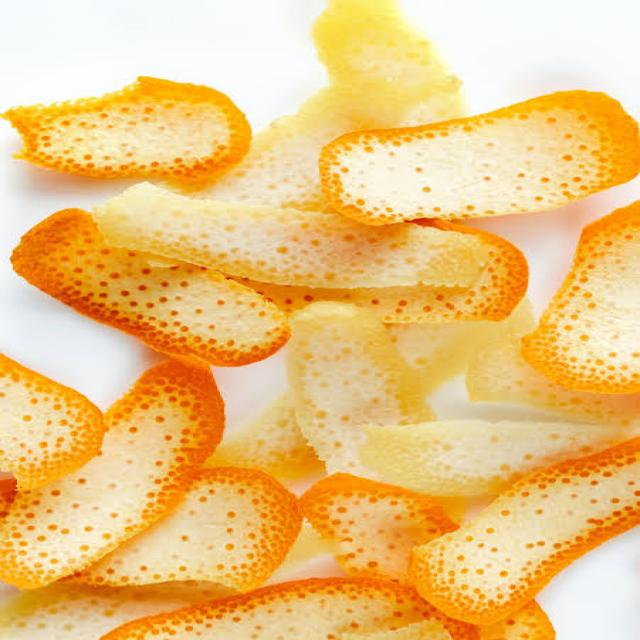food waste: (13, 0, 640, 636)
